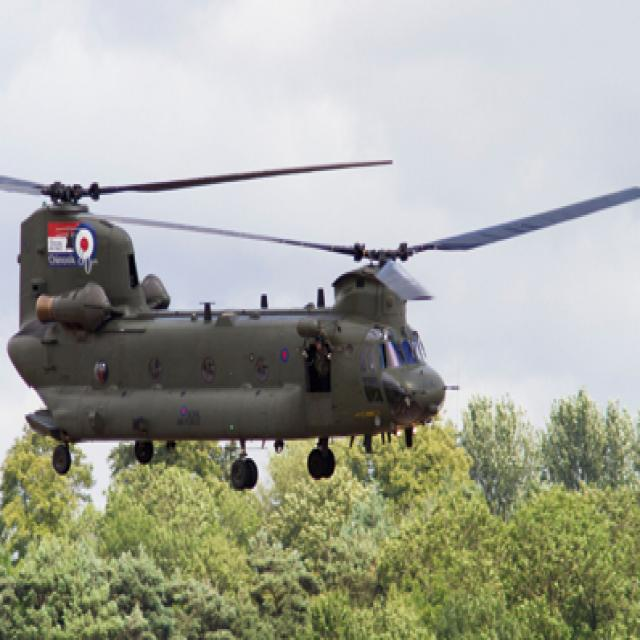helicopter: (1, 154, 640, 479)
